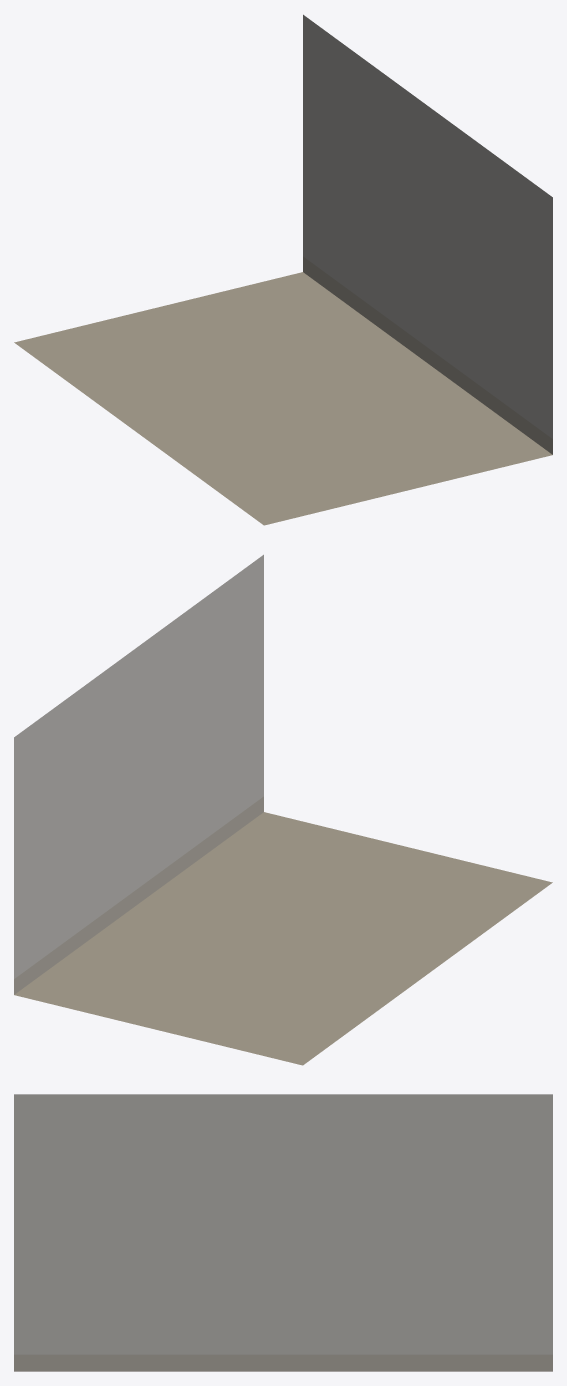
Rendered from galleryWalls.fbx.
3 renders of one model, top to bottom at view 1: azimuth 30°, elevation 25°; view 2: azimuth 150°, elevation 25°; view 3: azimuth 270°, elevation 25°, orthographic. The views are drawn at different scales.
Parts seen in each view (by area): view 1: galleryWalls; view 2: galleryWalls; view 3: galleryWalls.
Boxes of the visible parts, box(x1,y1,x2,y2) form: galleryWalls: box(14, 14, 552, 525); galleryWalls: box(14, 554, 552, 1065); galleryWalls: box(14, 1094, 552, 1371).
Bounding box in the file's own units: 11.84 × 10.09 × 17.75.
